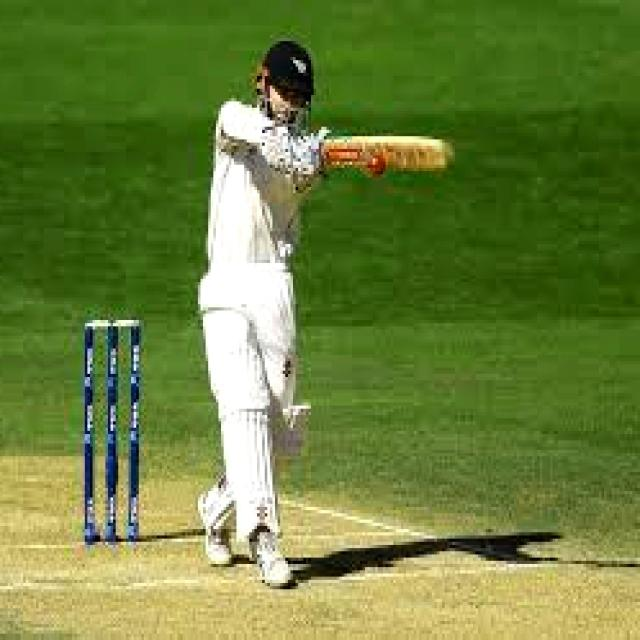toe: (417, 138, 456, 179)
